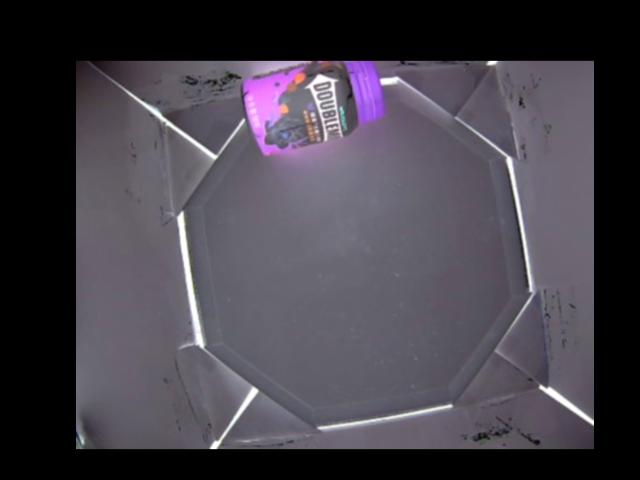Bottle: (239, 61, 385, 157)
